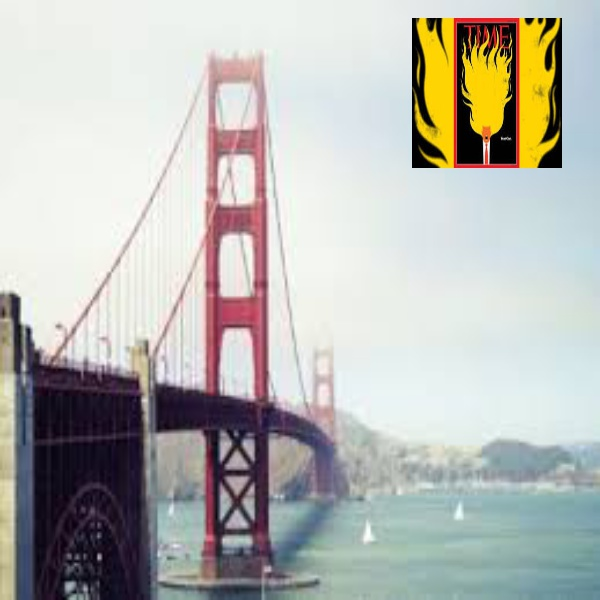time_cover: (448, 13, 526, 168)
